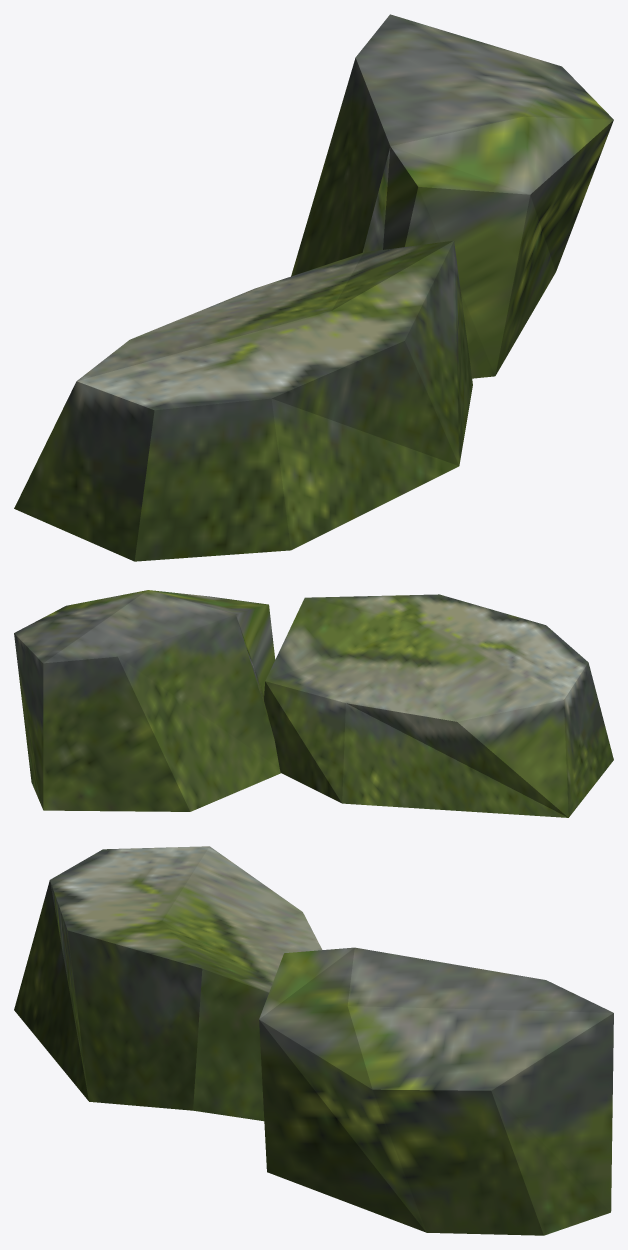
File: 4002_Item_shitou_3.FBX
3 renders of one model, top to bottom at view 1: azimuth 30°, elevation 25°; view 2: azimuth 150°, elevation 25°; view 3: azimuth 270°, elevation 25°, orthographic. The views are drawn at different scales.
Parts seen in each view (by area): view 1: 4002_Item_shitou_3; view 2: 4002_Item_shitou_3; view 3: 4002_Item_shitou_3.
Part boxes in pixels (x1,y1,x2,y2): 4002_Item_shitou_3: (14,14,613,561); 4002_Item_shitou_3: (14,590,613,817); 4002_Item_shitou_3: (14,846,613,1235).
Size of the model in its own units: 1250 by 398 by 1030.
